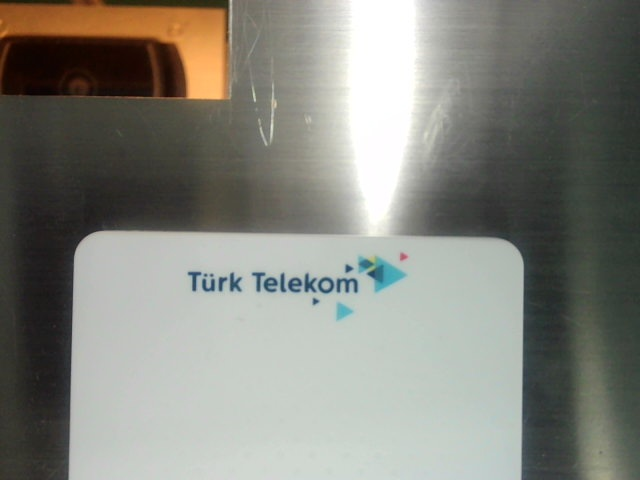AQ_TURKTelekom: (180, 244, 421, 321)
